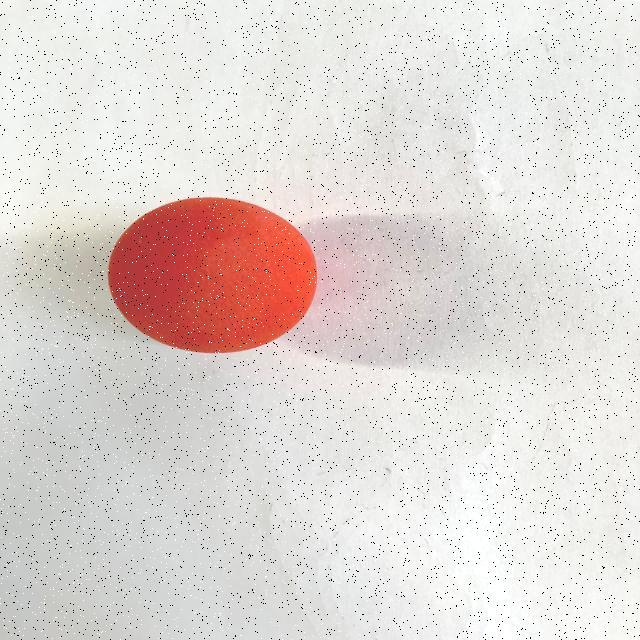ping-pong-ball: (105, 190, 323, 358)
